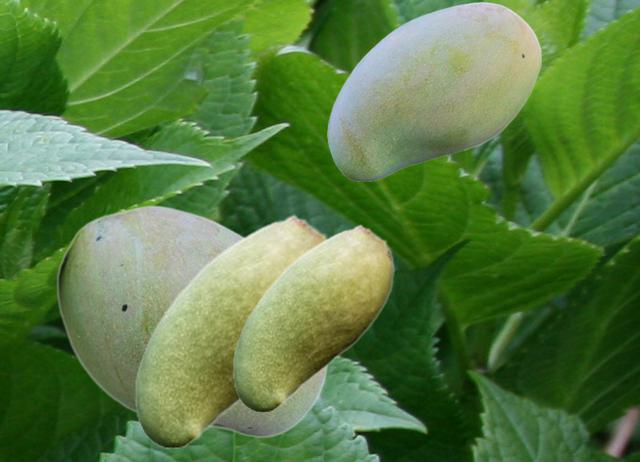green_mango: (56, 204, 328, 437), (134, 214, 328, 447), (327, 2, 541, 180), (232, 224, 393, 411)
